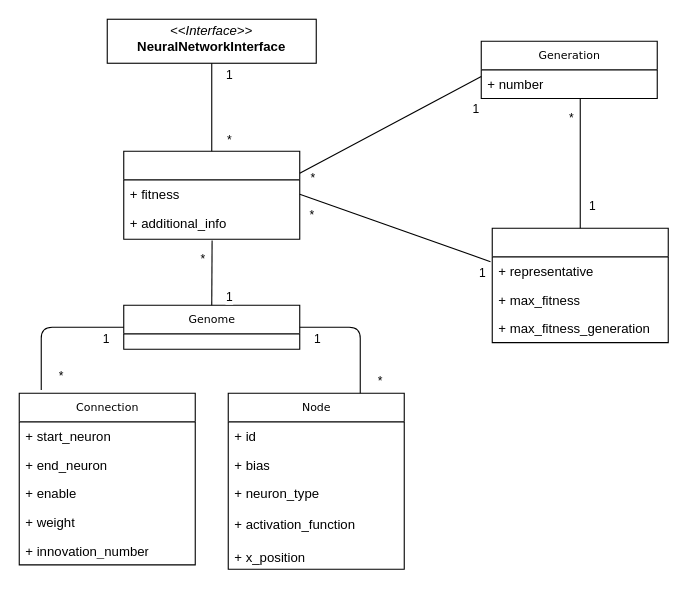
The diagram is 688 pixels wide and 592 high, and some of its shapes have lost their labels. The shapes that lost their labels are listed below. From the top down, each one's box as (x1, y1, x2, y2) in pixels, then its label:
(123, 150, 300, 239): Agent
(491, 227, 668, 343): Species
